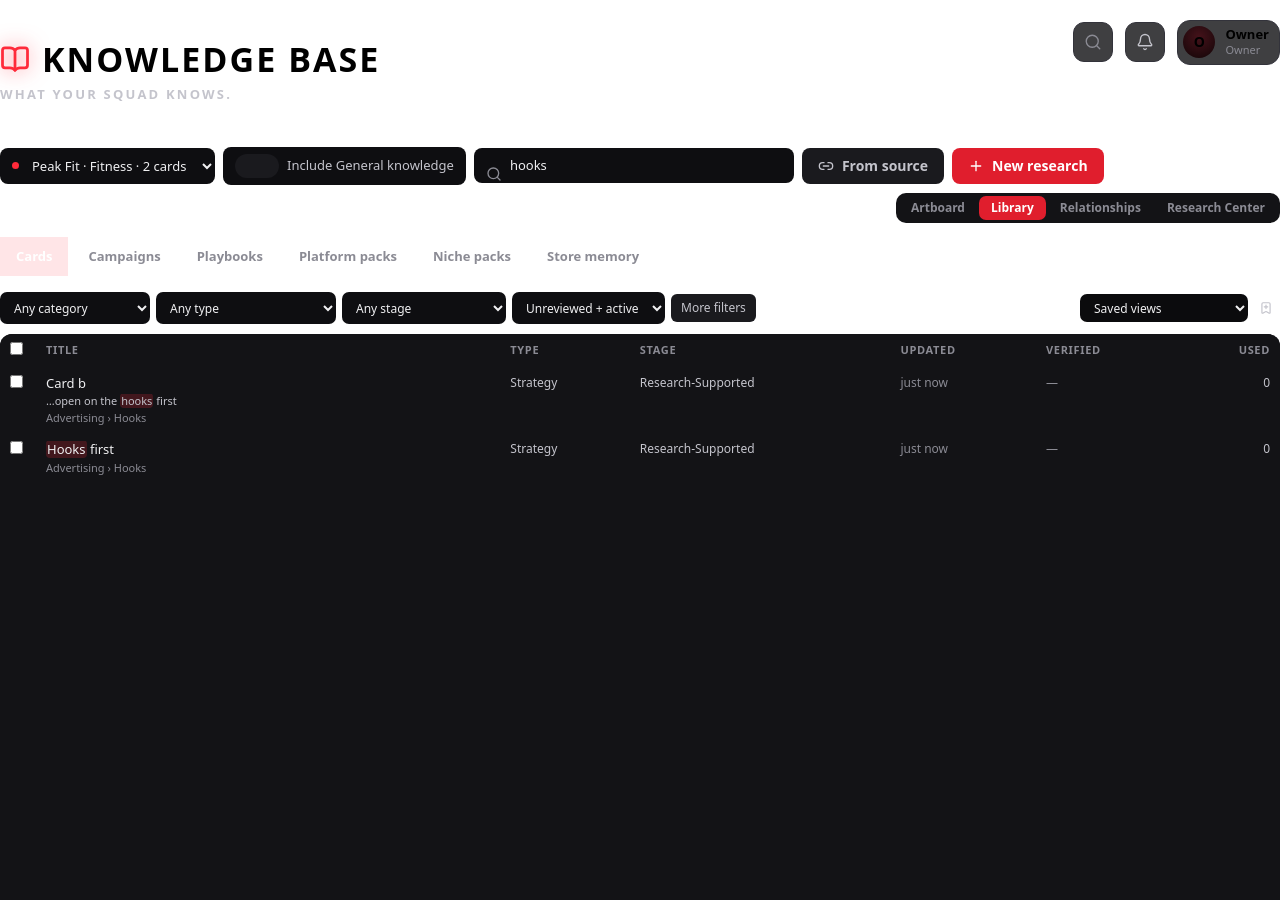
Test case: Knowledge Library › cards › a search ranks by best match and marks the matching words; All workspaces says whose each card is
Expected: the text "…open on the hooks first" is shown, [46,393,177,408]
Expected: the text "Hooks" is shown once, [46,441,86,458]
Select "All workspaces" in the dropdown named "Workspace" at point(108, 166), box [0,148,215,184]
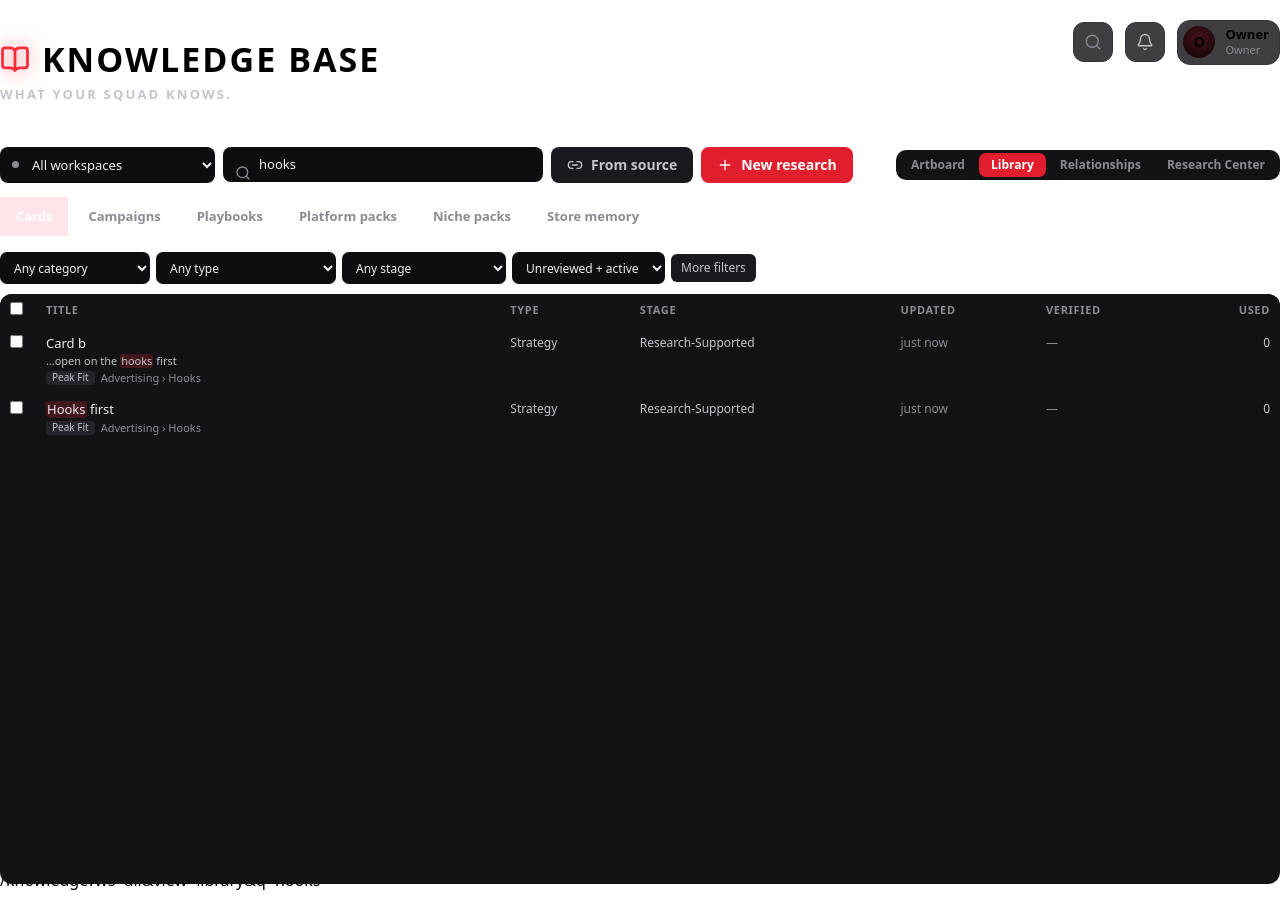
Expected: the dropdown labelled "Saved views" is not shown
Result: the text with test id "where" reads "/knowledge?ws=all&view=library&q=hooks" at [0,869,320,891]
Result: the text "Peak Fit" is shown 2 times at [46,371,95,385]; [46,421,95,435]
